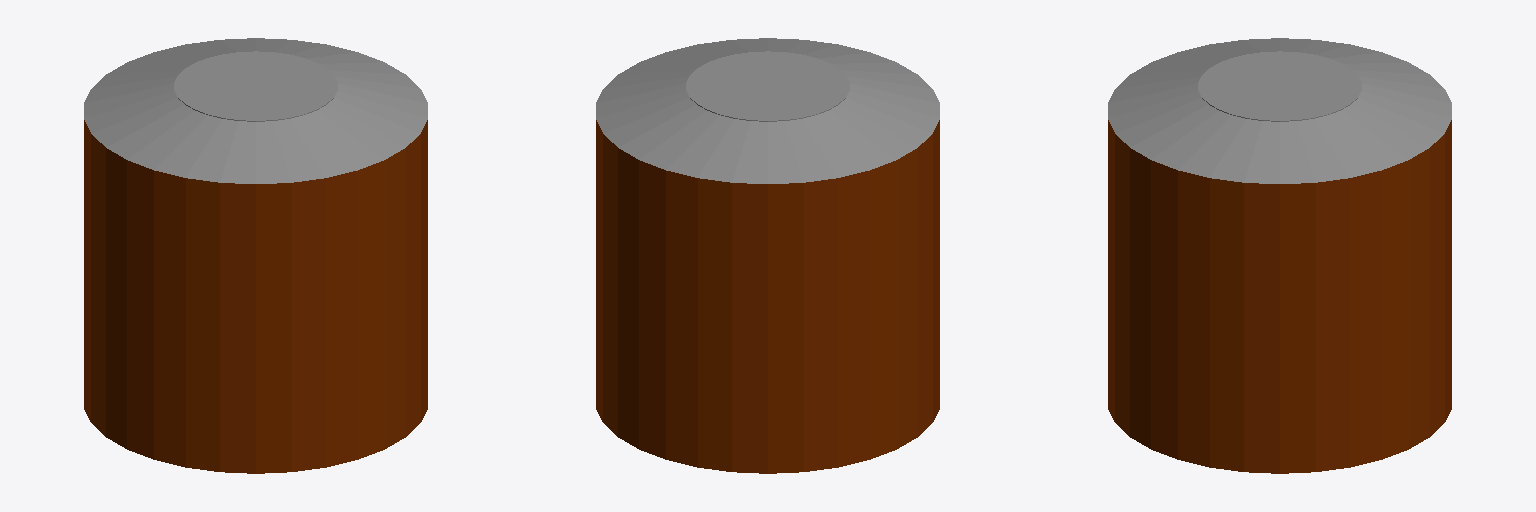
Rendered from Log_Small.obj.
3 renders of one model, left to right at view 1: azimuth 30°, elevation 25°; view 2: azimuth 150°, elevation 25°; view 3: azimuth 270°, elevation 25°, orthographic.
Parts seen in each view (by area): view 1: LogChunk_068; view 2: LogChunk_068; view 3: LogChunk_068.
Boxes of the visible parts, <box> form: LogChunk_068: <box>84,38,427,473</box>; LogChunk_068: <box>596,38,939,473</box>; LogChunk_068: <box>1108,38,1451,473</box>.
Size of the model in its own units: 130 by 141 by 129.